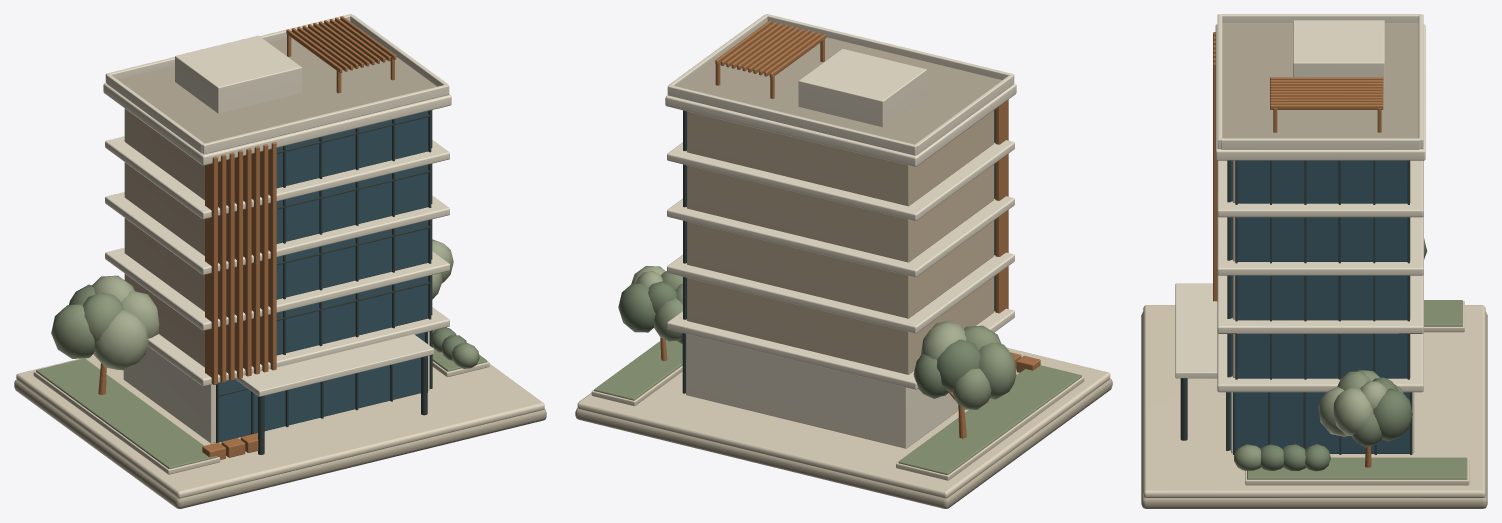
Rendered from nvs-maquete-comercial.glb.
3 views of the same model, side by side, from view 1: azimuth 30°, elevation 25°; view 2: azimuth 150°, elevation 25°; view 3: azimuth 270°, elevation 25° (orthographic). The views are drawn at different scales.
Visible parts, largest first — view 1: Passeio, Terraço, Vidraça, Casa de máquinas, Jardim, Base da maquete, Vidraça.002, Vidraça.003, Vidraça.001, Vidraça.004, Laje aparente.003, Laje aparente.001 (+27 smaller); view 2: Passeio, Galeria de entrada, Núcleo de escritórios.001, Núcleo de escritórios.002, Núcleo de escritórios.003, Núcleo de escritórios, Terraço, Casa de máquinas, Jardim, Base da maquete, Laje aparente.001, Laje aparente.003 (+17 smaller); view 3: Passeio, Terraço, Vidraça lateral.002, Vidraça lateral.003, Vidraça lateral.004, Vidraça lateral.001, Vidraça lateral, Casa de máquinas, Base da maquete, Laje aparente.003, Marquise de entrada, Laje aparente.002 (+27 smaller).
Boxes of the visible parts, x1,y1,x2,y2 form: Passeio: [16, 355, 544, 498]; Terraço: [118, 37, 436, 143]; Vidraça: [219, 332, 424, 442]; Casa de máquinas: [175, 35, 301, 113]; Jardim: [36, 358, 217, 468]; Base da maquete: [14, 380, 546, 508]; Vidraça.002: [276, 220, 428, 299]; Vidraça.003: [276, 164, 428, 243]; Vidraça.001: [276, 276, 428, 355]; Vidraça.004: [276, 111, 428, 188]; Laje aparente.003: [105, 136, 449, 219]; Laje aparente.001: [105, 248, 449, 330]; Passeio: [577, 347, 1110, 498]; Galeria de entrada: [686, 334, 958, 448]; Núcleo de escritórios.001: [687, 220, 993, 318]; Núcleo de escritórios.002: [687, 164, 993, 262]; Núcleo de escritórios.003: [687, 110, 993, 206]; Núcleo de escritórios: [687, 277, 993, 374]; Terraço: [680, 37, 1001, 144]; Casa de máquinas: [798, 49, 926, 127]; Jardim: [898, 365, 1081, 474]; Base da maquete: [575, 378, 1112, 508]; Laje aparente.001: [667, 252, 1014, 333]; Laje aparente.003: [667, 140, 1014, 220]; Passeio: [1143, 305, 1485, 497]; Terraço: [1222, 23, 1418, 138]; Vidraça lateral.002: [1237, 275, 1407, 320]; Vidraça lateral.003: [1237, 217, 1407, 261]; Vidraça lateral.004: [1237, 160, 1407, 203]; Vidraça lateral.001: [1237, 334, 1407, 378]; Vidraça lateral: [1235, 392, 1409, 453]; Casa de máquinas: [1293, 20, 1384, 89]; Base da maquete: [1141, 312, 1487, 508]; Laje aparente.003: [1217, 160, 1423, 217]; Marquise de entrada: [1175, 283, 1217, 378]; Laje aparente.002: [1217, 216, 1423, 275].
Bounding box in the file's own units: 11.48 × 9.74 × 8.5.
